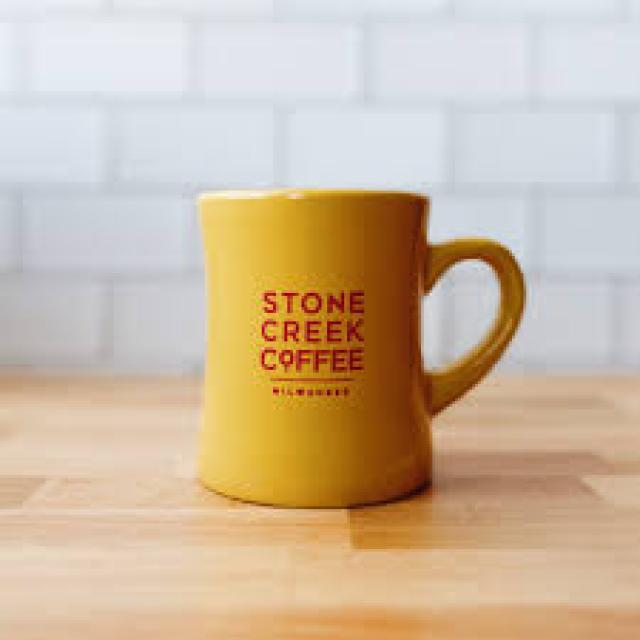taza: (195, 186, 529, 508)
